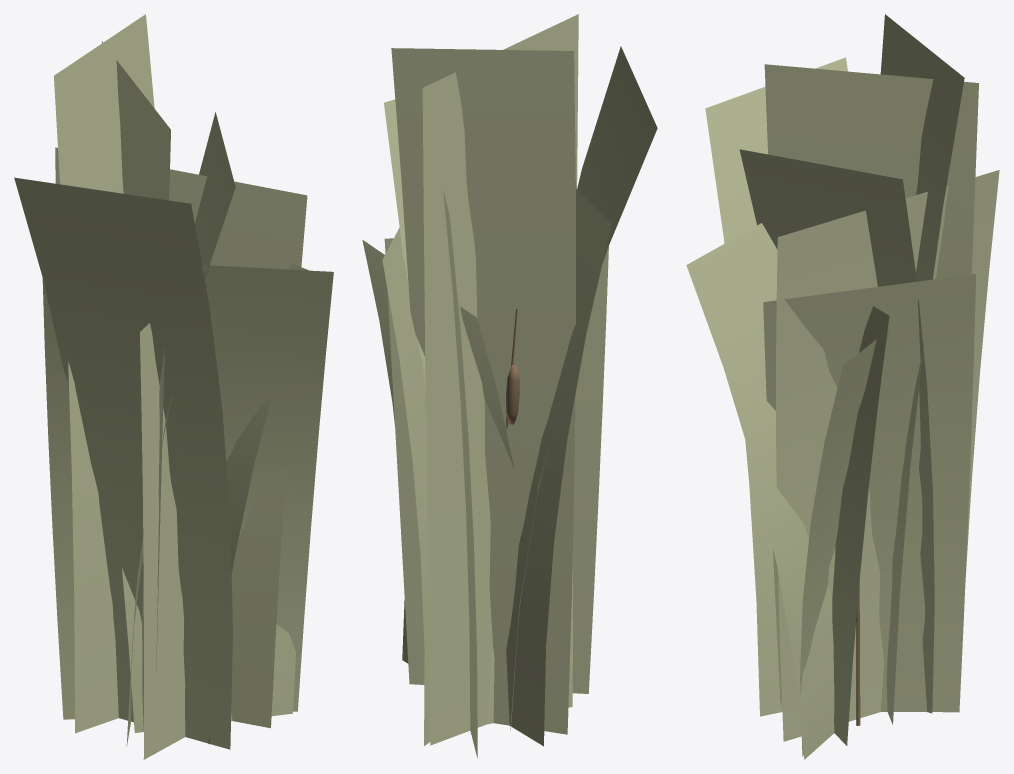
File: reed_tall1.glb
3 renders of one model, left to right at view 1: azimuth 30°, elevation 25°; view 2: azimuth 150°, elevation 25°; view 3: azimuth 270°, elevation 25°, orthographic. The views are drawn at different scales.
Visible parts, largest first — view 1: reed_tall1; view 2: reed_tall1; view 3: reed_tall1.
Boxes of the visible parts, x1,y1,x2,y2 form: reed_tall1: (14, 14, 333, 759); reed_tall1: (362, 14, 657, 758); reed_tall1: (686, 14, 999, 759).
Size of the model in its own units: 1.32 by 2.95 by 1.29.
